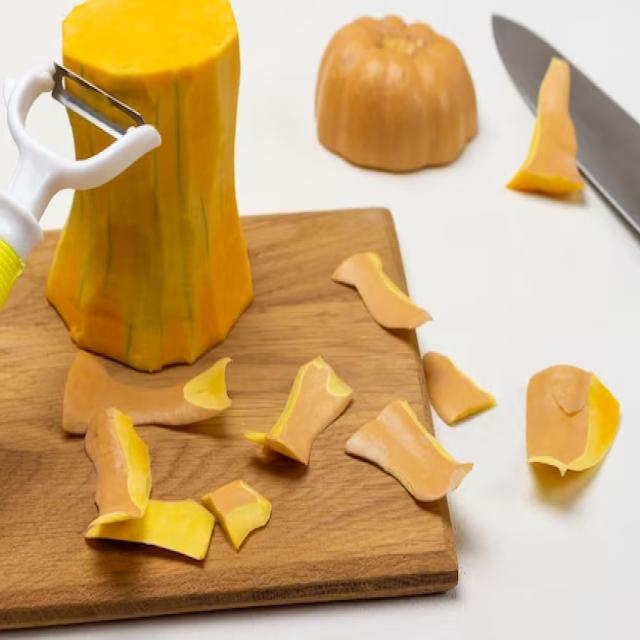organic: (60, 350, 234, 439), (244, 353, 355, 471), (340, 407, 476, 500), (507, 55, 588, 202), (83, 497, 217, 564), (83, 405, 155, 529), (330, 250, 434, 333), (418, 346, 499, 426), (200, 480, 273, 556)
